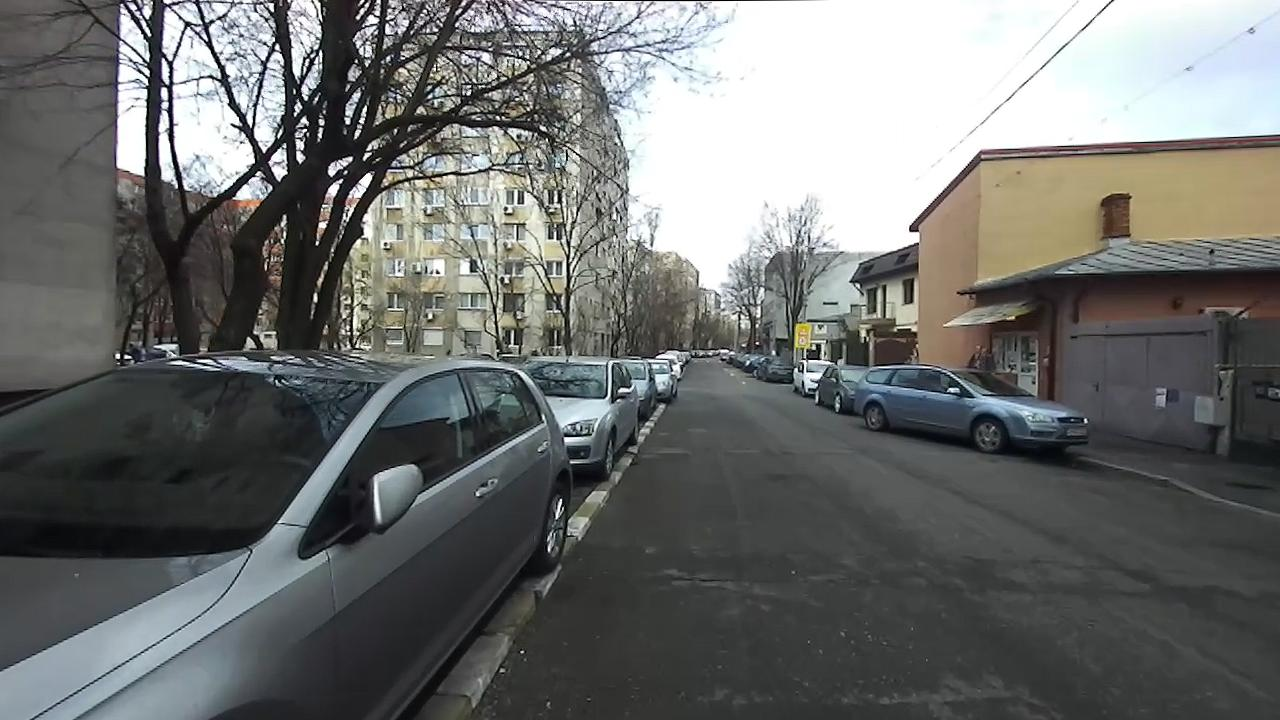pothole: (654, 560, 766, 593)
